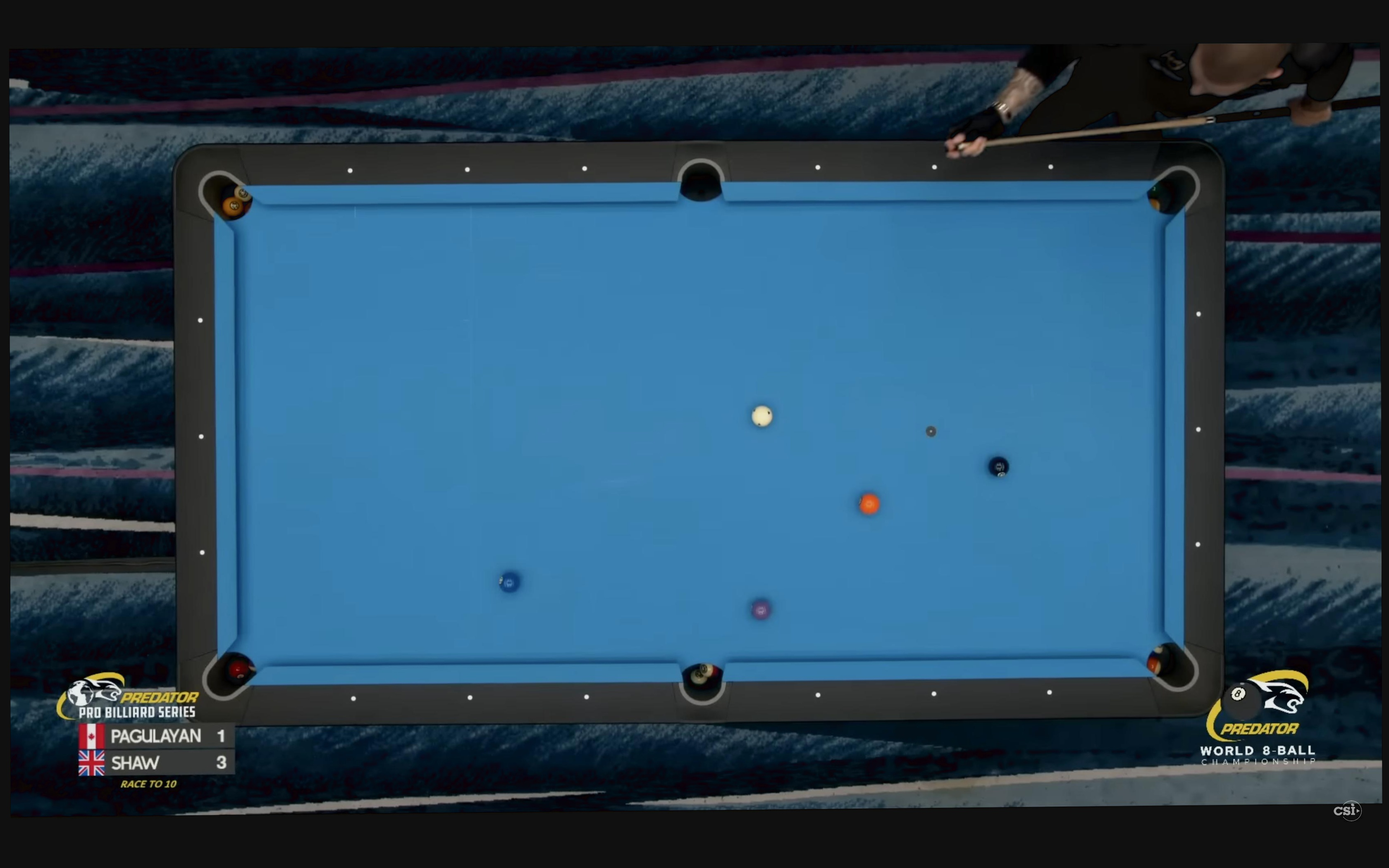Black: (931, 163, 938, 171), (197, 317, 204, 324), (198, 433, 205, 440), (1046, 689, 1053, 696), (1195, 426, 1202, 433), (814, 164, 821, 171), (815, 691, 821, 699), (199, 549, 205, 556), (584, 693, 590, 700), (931, 690, 937, 697), (1195, 541, 1201, 548), (351, 696, 357, 702), (1196, 311, 1202, 317), (582, 166, 588, 172), (464, 166, 470, 172), (347, 168, 353, 174), (467, 695, 474, 700), (1048, 164, 1053, 170)
Cue: (499, 570, 522, 594), (858, 492, 881, 515), (751, 598, 771, 621)
Solid: (986, 455, 1011, 479)
Stripe: (749, 405, 774, 428)
